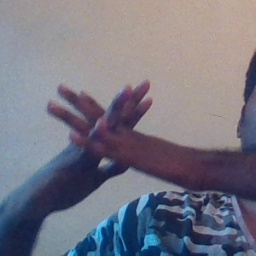W: (39, 68, 155, 198)
